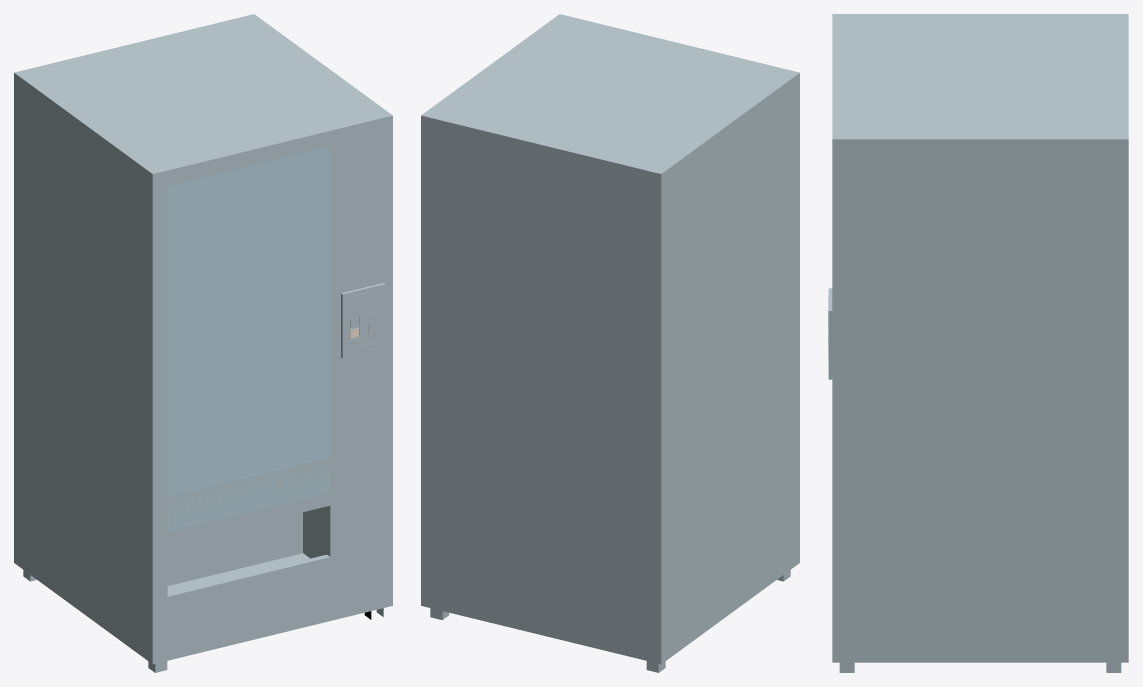
File: vending_machine.glb
3 views of the same model, side by side, from view 1: azimuth 30°, elevation 25°; view 2: azimuth 150°, elevation 25°; view 3: azimuth 270°, elevation 25° (orthographic). The views are drawn at different scales.
Visible parts, largest first — view 1: VendingMachine_Frame, VendingMachine_OldGlass, VendingMachine_Body, VendingMachine_Panel; view 2: VendingMachine_Frame; view 3: VendingMachine_Frame, VendingMachine_Panel.
Boxes of the visible parts, x1,y1,x2,y2 form: VendingMachine_Frame: [14, 14, 392, 664]; VendingMachine_OldGlass: [167, 146, 330, 531]; VendingMachine_Body: [23, 289, 383, 672]; VendingMachine_Panel: [167, 283, 385, 596]; VendingMachine_Frame: [421, 14, 799, 664]; VendingMachine_Frame: [832, 14, 1128, 662]; VendingMachine_Panel: [828, 288, 832, 379].
Size of the model in its own units: 4 by 8 by 4.06.
